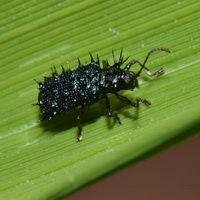insect: (37, 47, 169, 122)
